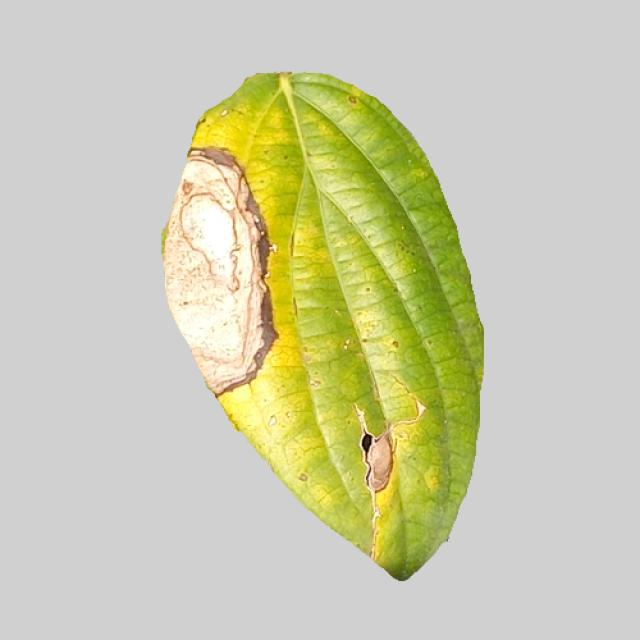leaf-blight: (144, 83, 487, 580)
